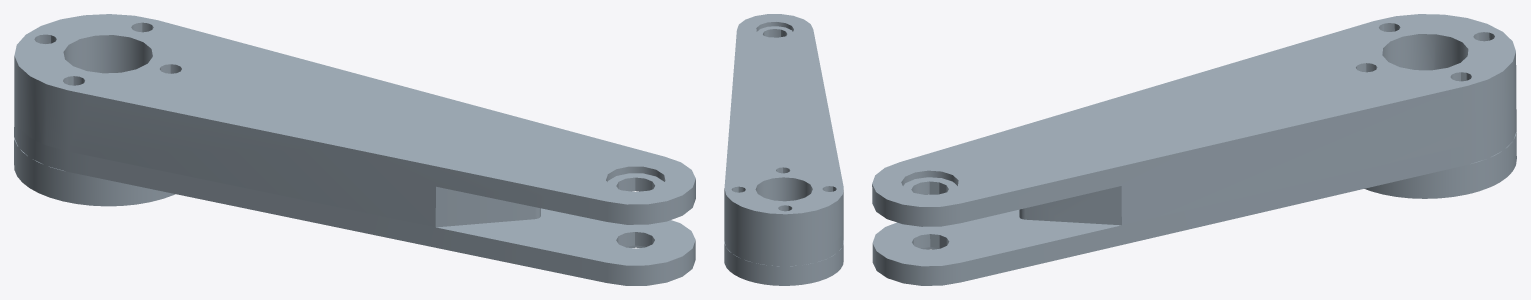
The picture shows the model from 3 angles, left to right: view 1: azimuth 30°, elevation 25°; view 2: azimuth 150°, elevation 25°; view 3: azimuth 270°, elevation 25°; orthographic projection. The views are drawn at different scales.
Visible parts, largest first — view 1: tmp_export_fr_link_1; view 2: tmp_export_fr_link_1; view 3: tmp_export_fr_link_1.
Boxes of the visible parts, bbox=[...] form: tmp_export_fr_link_1: bbox=[14, 14, 695, 285]; tmp_export_fr_link_1: bbox=[724, 14, 843, 285]; tmp_export_fr_link_1: bbox=[872, 14, 1516, 285].
Bounding box in the file's own units: 0.062 × 0.0889 × 0.0167.
